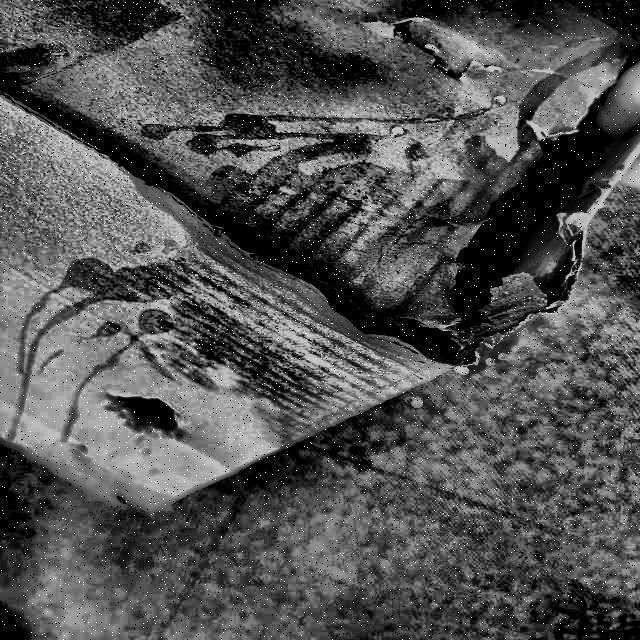box: (1, 1, 640, 532)
hole: (454, 100, 636, 357), (98, 379, 186, 452)
wet: (164, 154, 444, 410)
